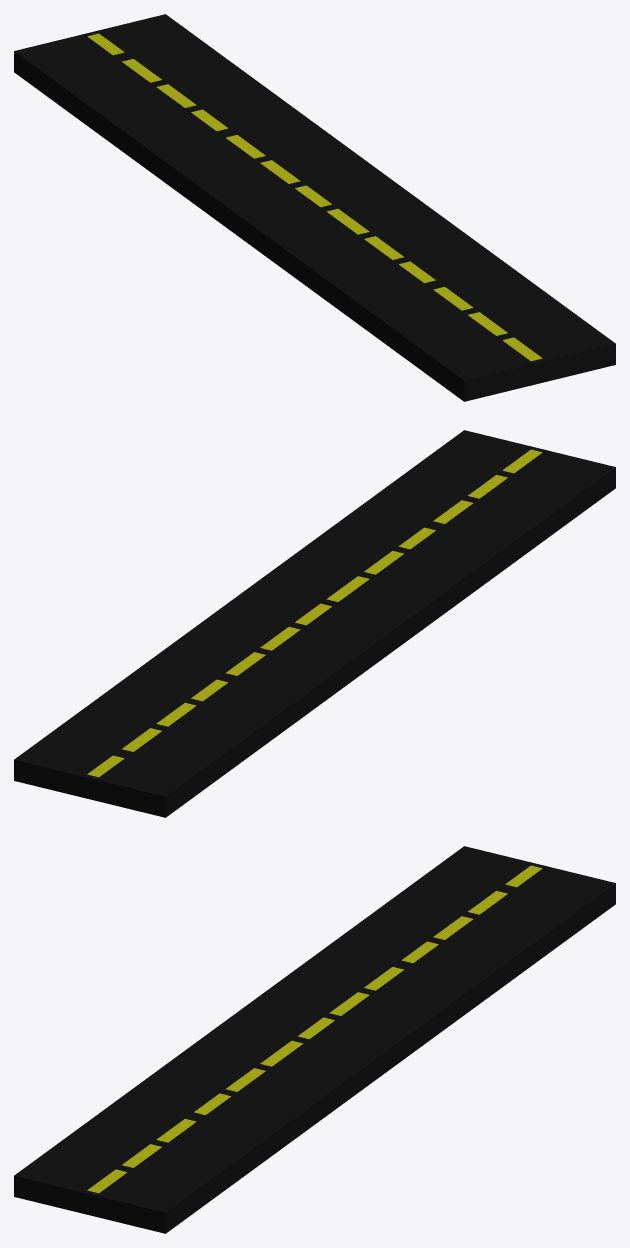
File: RoadFlat.fbx
3 views of the same model, one above another, from view 1: azimuth 30°, elevation 25°; view 2: azimuth 150°, elevation 25°; view 3: azimuth 330°, elevation 25° (orthographic).
Visible parts, largest first — view 1: Cube.001; view 2: Cube.001; view 3: Cube.001.
Boxes of the visible parts, <box> form: Cube.001: <box>14,14,615,401</box>; Cube.001: <box>14,430,615,817</box>; Cube.001: <box>14,846,615,1233</box>.
Size of the model in its own units: 1109 by 148 by 5703.
